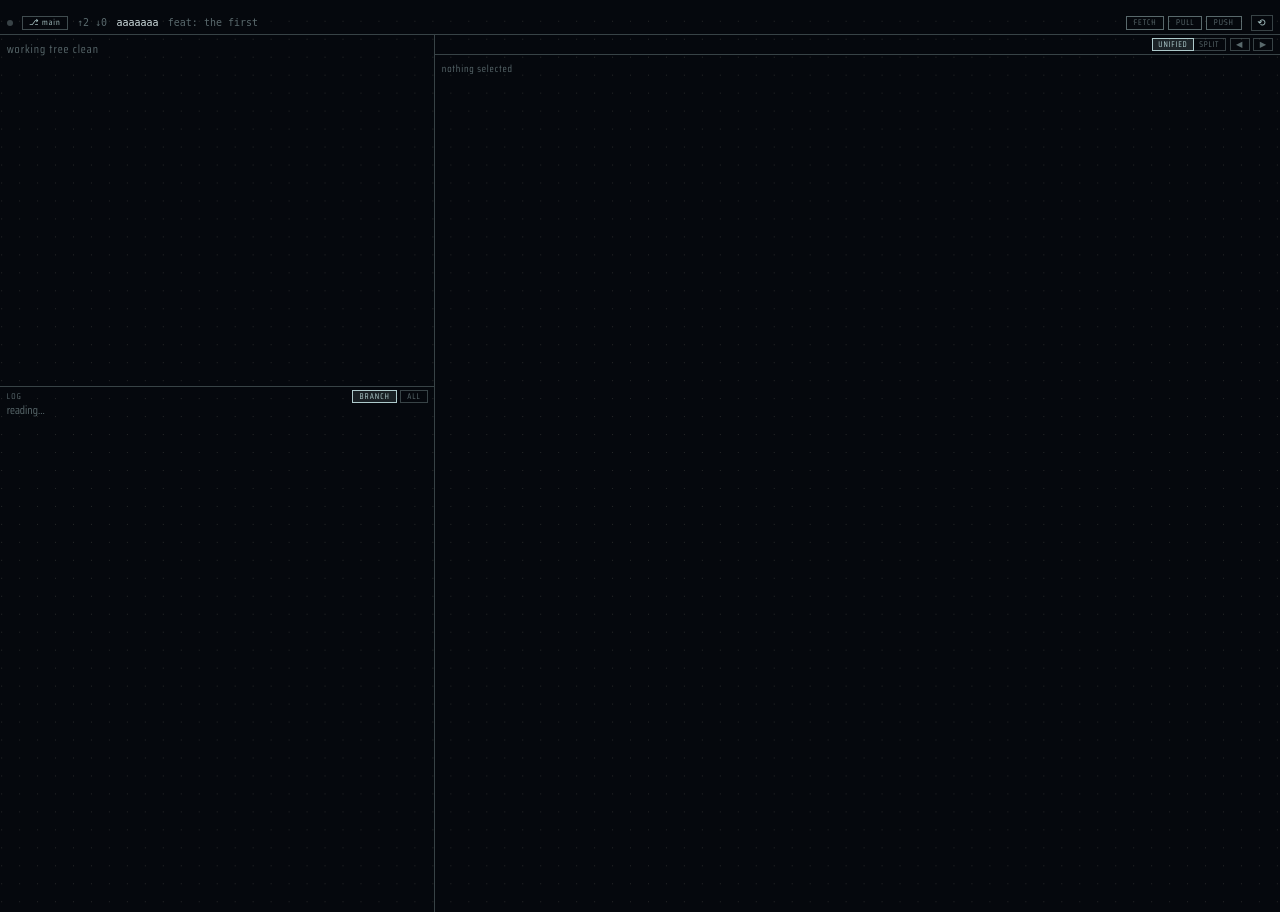
Scenario: FETCH, PULL and PUSH › arm on the first press, saying what will go where
Click the button with test id "git-push": [1224, 23] box [1206, 16, 1242, 30]
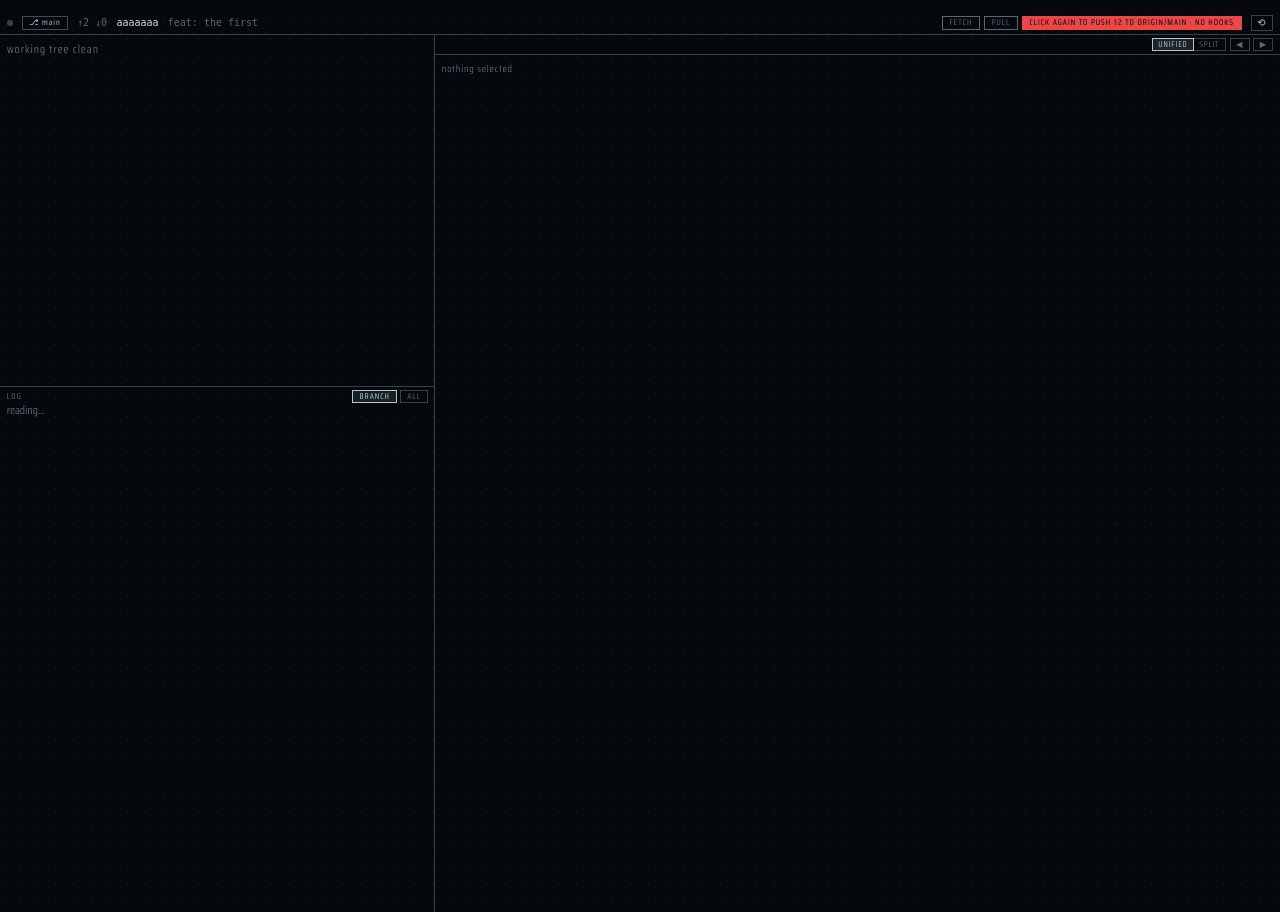
Check: the button with test id "git-push" reads "click again to push ↑2 to origin/main · no hooks", box [1022, 16, 1242, 30]
Click the button with test id "git-fetch": [961, 23] box [942, 16, 980, 30]
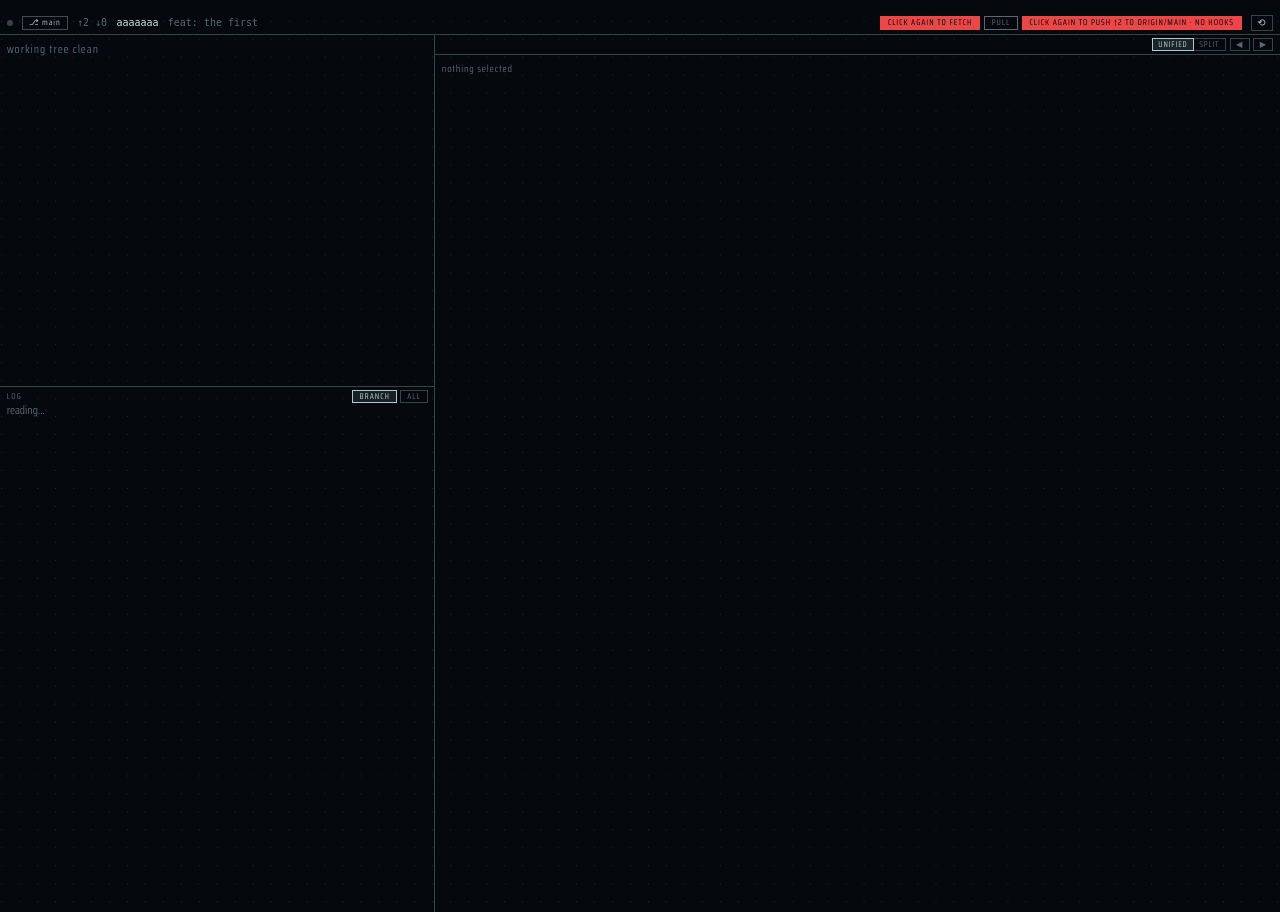
Check: the button with test id "git-fetch" reads "click again to fetch", box [880, 16, 980, 30]
